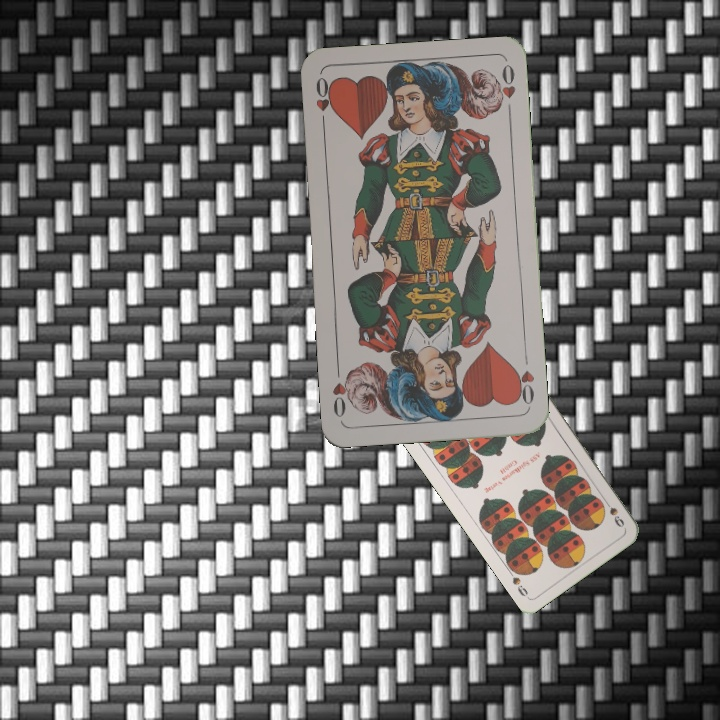HO: (511, 350, 537, 407), (311, 73, 335, 132)
S9: (599, 494, 627, 530)
